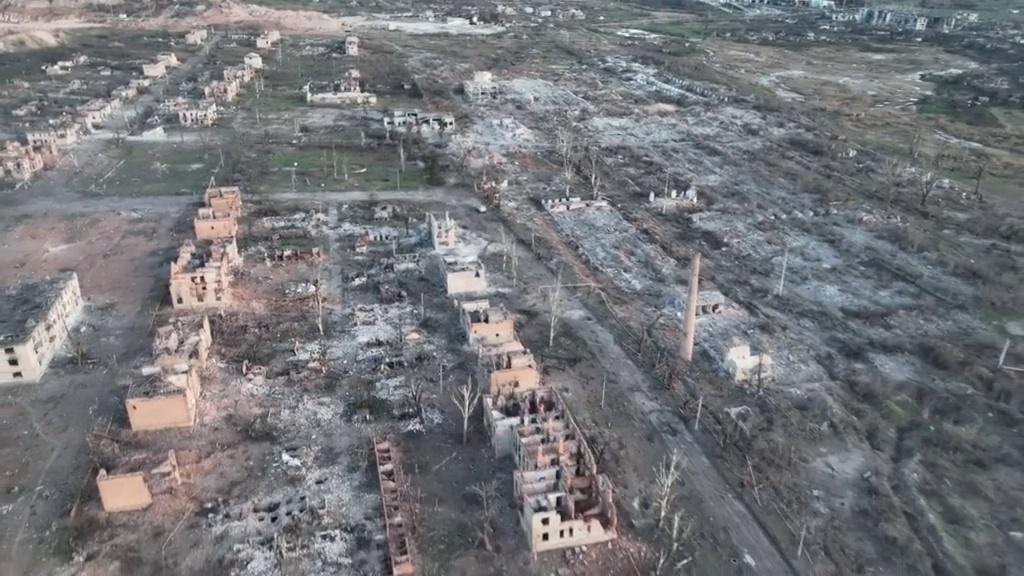vehicle: (474, 202, 488, 214)
